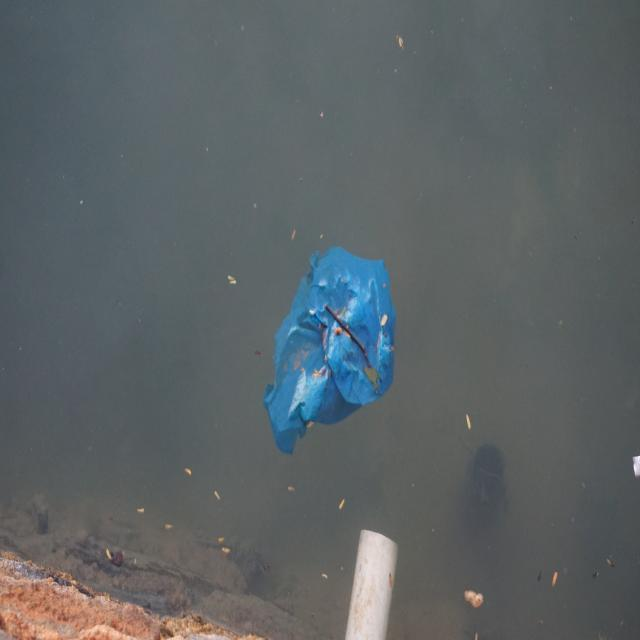Kantong Plastik: (264, 239, 400, 447)
